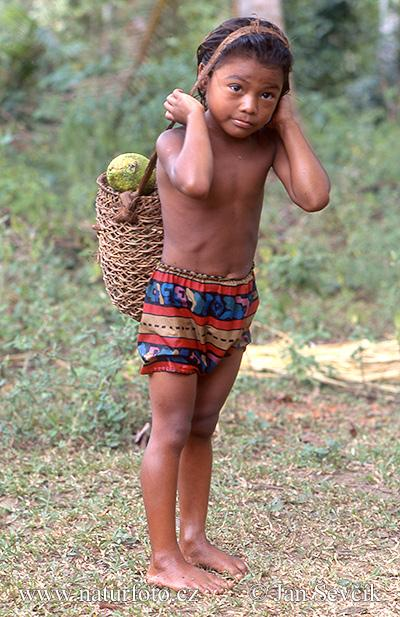Human: (117, 13, 300, 601)
